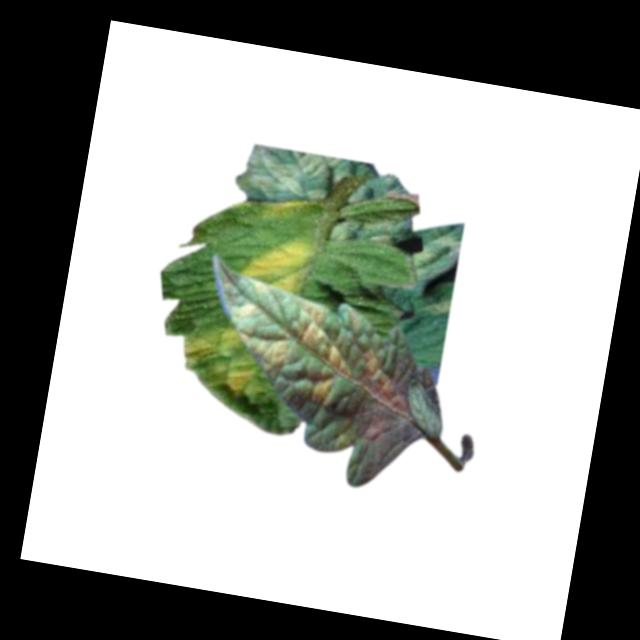Leaf_Mold: (172, 316, 263, 400), (234, 143, 340, 211), (280, 296, 361, 378), (236, 232, 316, 296), (353, 346, 404, 403), (237, 325, 287, 383), (304, 373, 336, 405), (231, 298, 260, 324)
